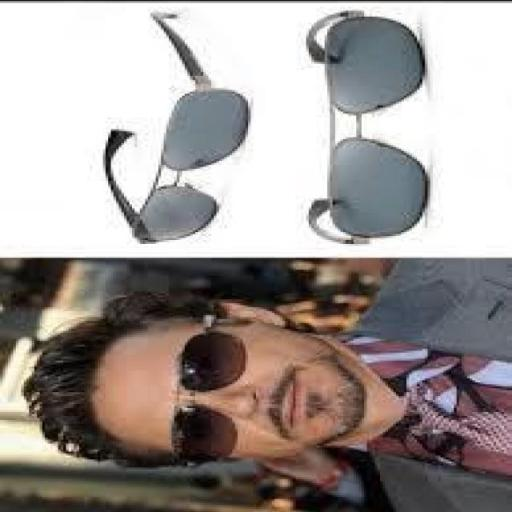glasses: (72, 6, 284, 272), (250, 0, 458, 271), (157, 302, 276, 487)
